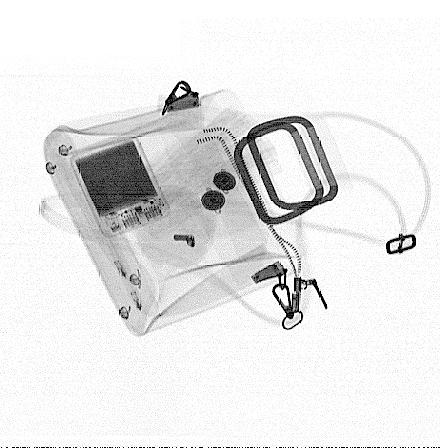Powerbank: (69, 134, 171, 238)
